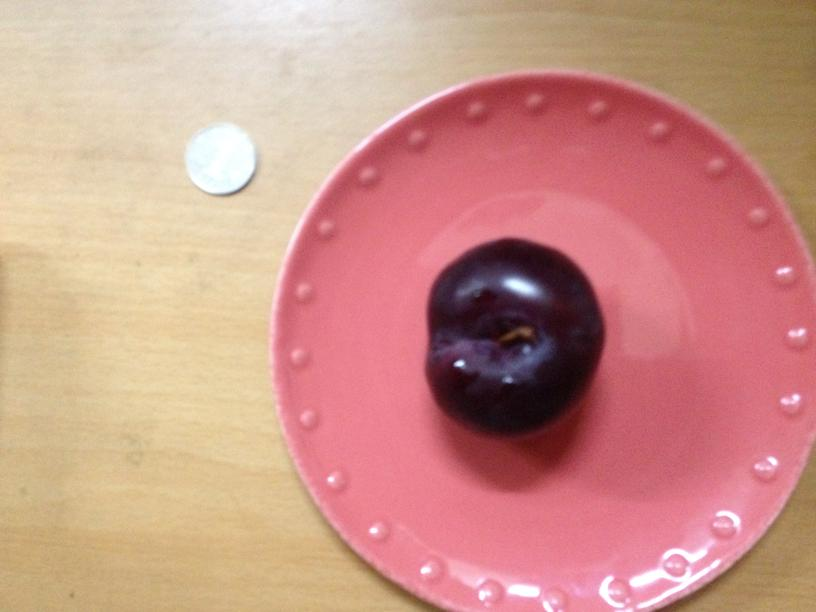coin: (184, 125, 255, 192)
plum: (420, 239, 604, 432)
